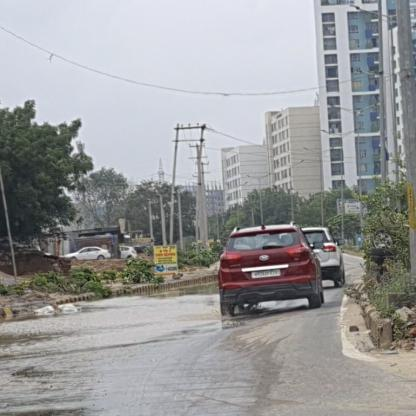car: (217, 222, 324, 316), (300, 226, 348, 286), (62, 246, 112, 261), (118, 246, 139, 258)
